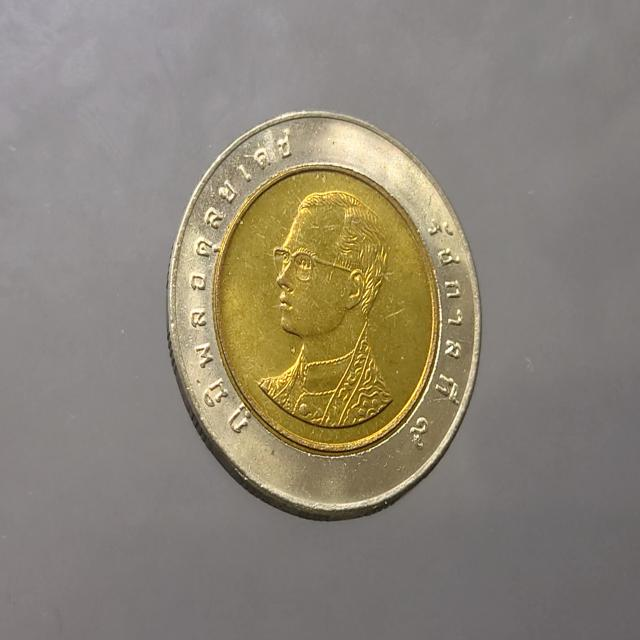10 Bath: (166, 108, 485, 525)
